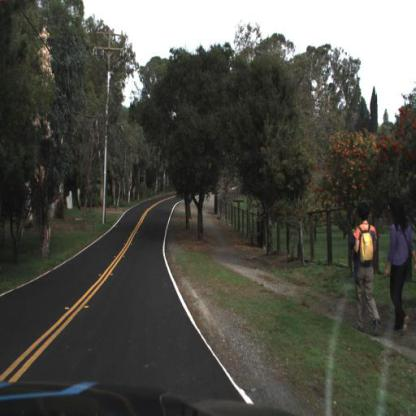pedestrian: (383, 197, 416, 338), (350, 202, 383, 334)
